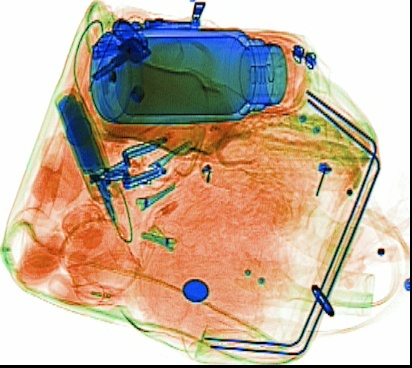powerbank: (51, 88, 123, 204)
